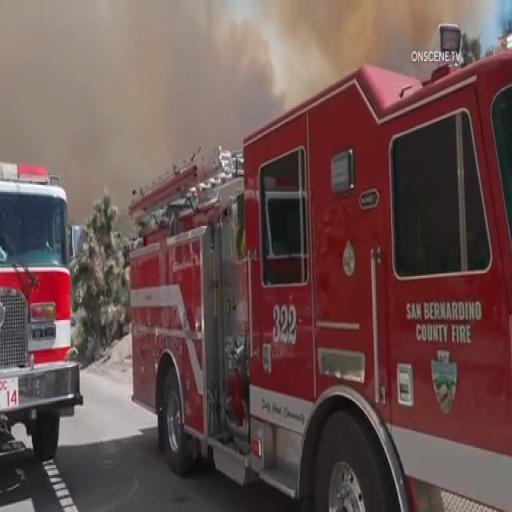smoke: (170, 14, 298, 94)
